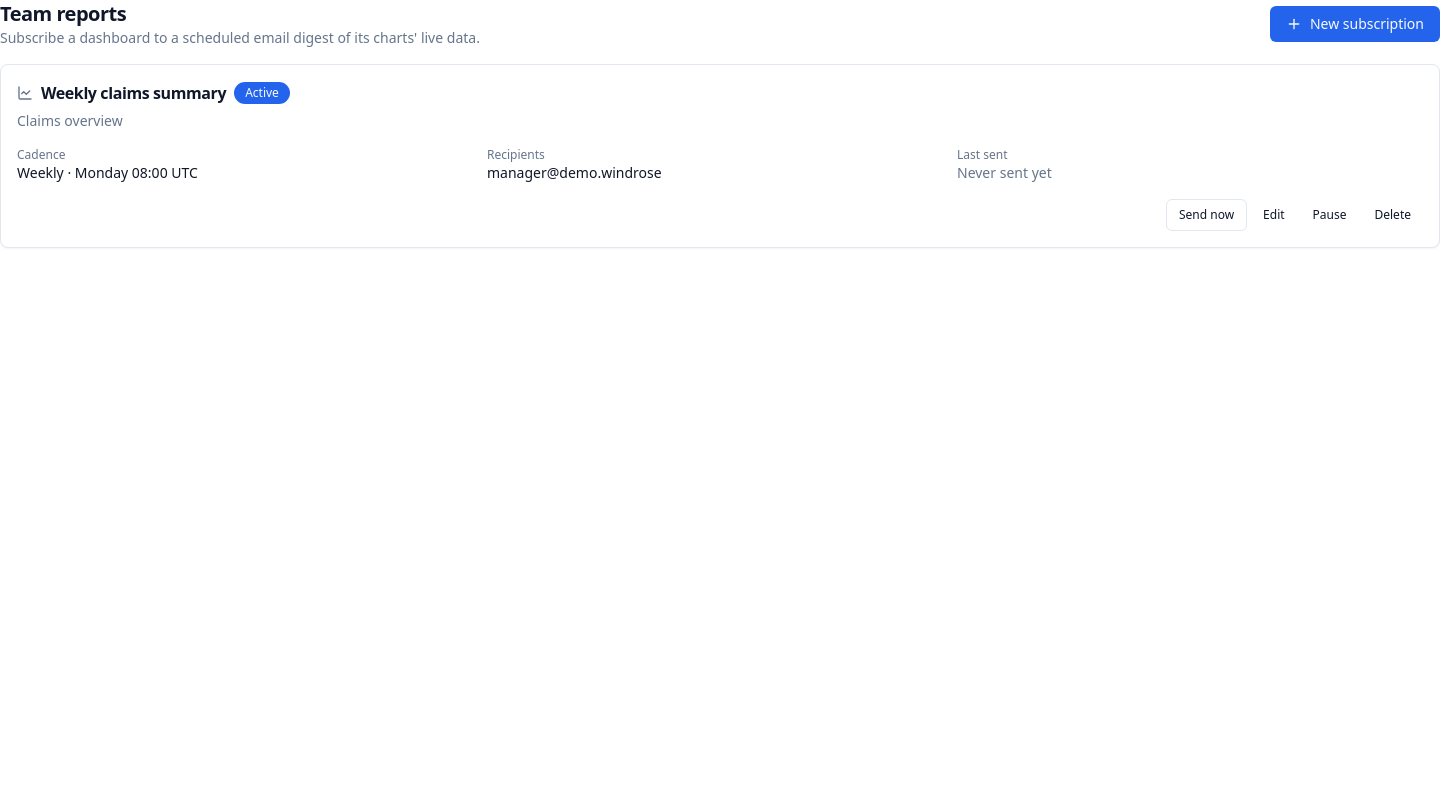
Team reports page (notification-service report subscriptions) › creates a report subscription and posts real recipients/cadence to the BFF
Expected: the heading "Weekly claims summary" is shown, 41,81 -> 226,105
Click the button "New subscription" at {"x": 1355, "y": 24}, box 1270,6 -> 1439,42
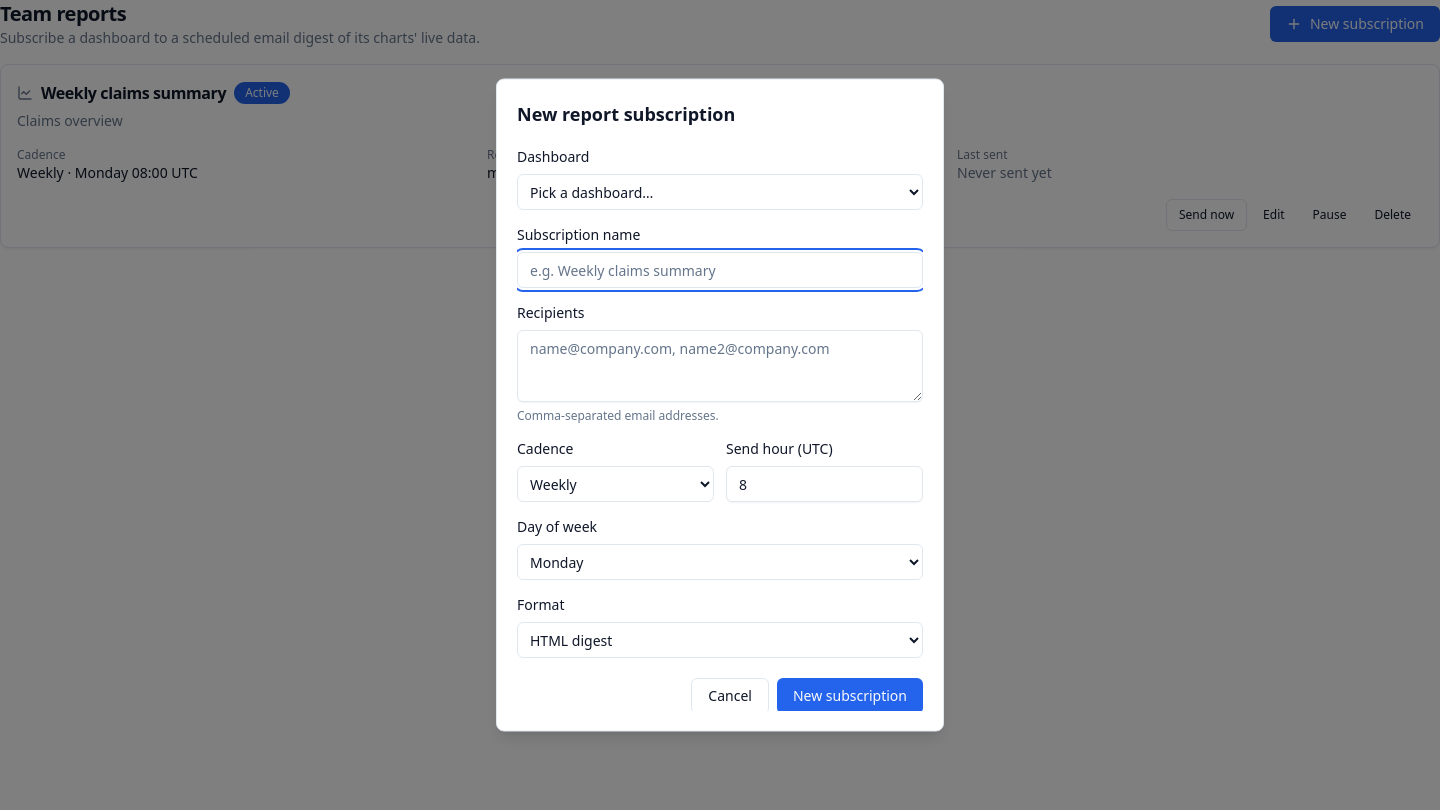
Select "Claims overview" in the dropdown labelled "Dashboard" at {"x": 720, "y": 192}, box 517,174 -> 923,210
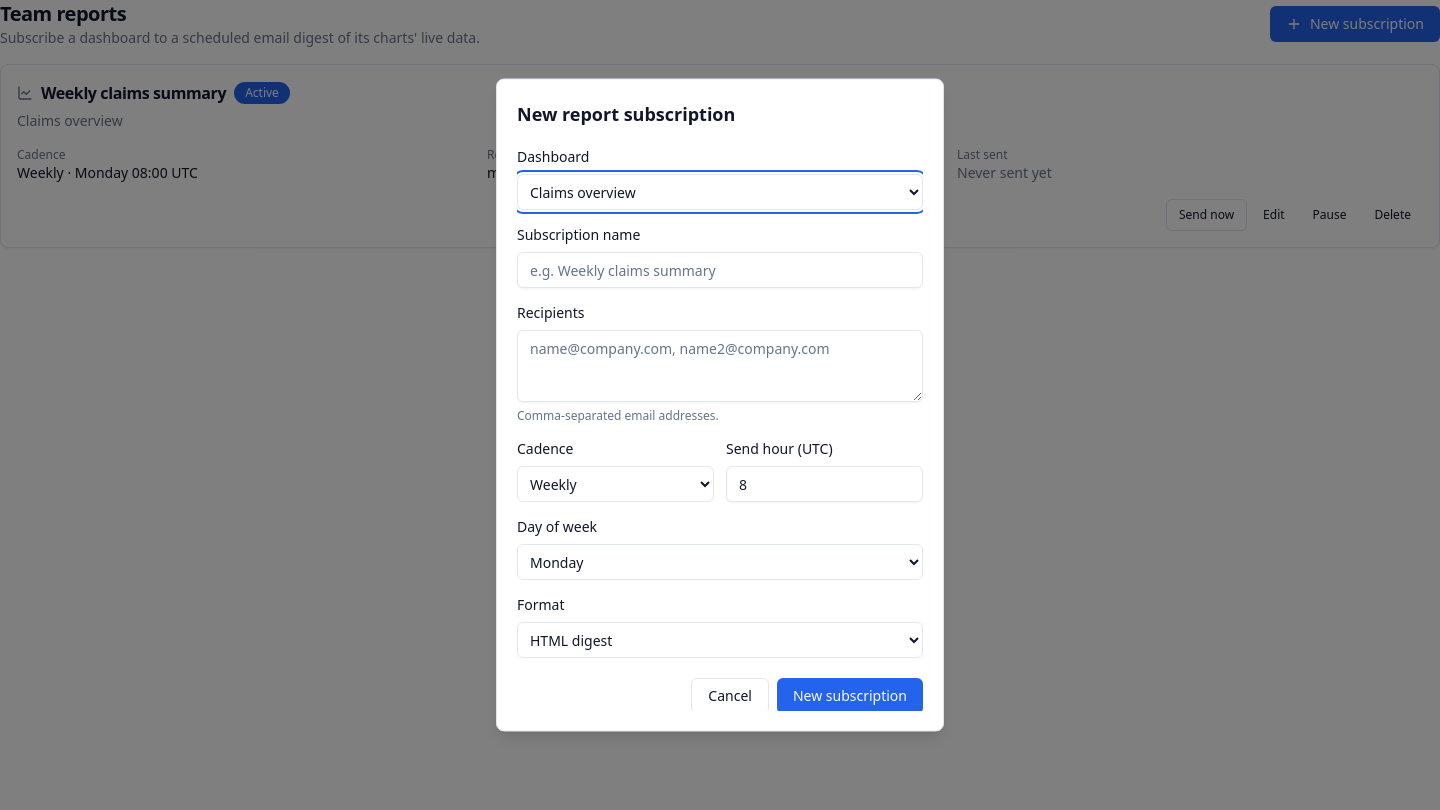
Type "Monthly ops digest" into the field labelled "Subscription name" at {"x": 720, "y": 270}, box 517,252 -> 923,288
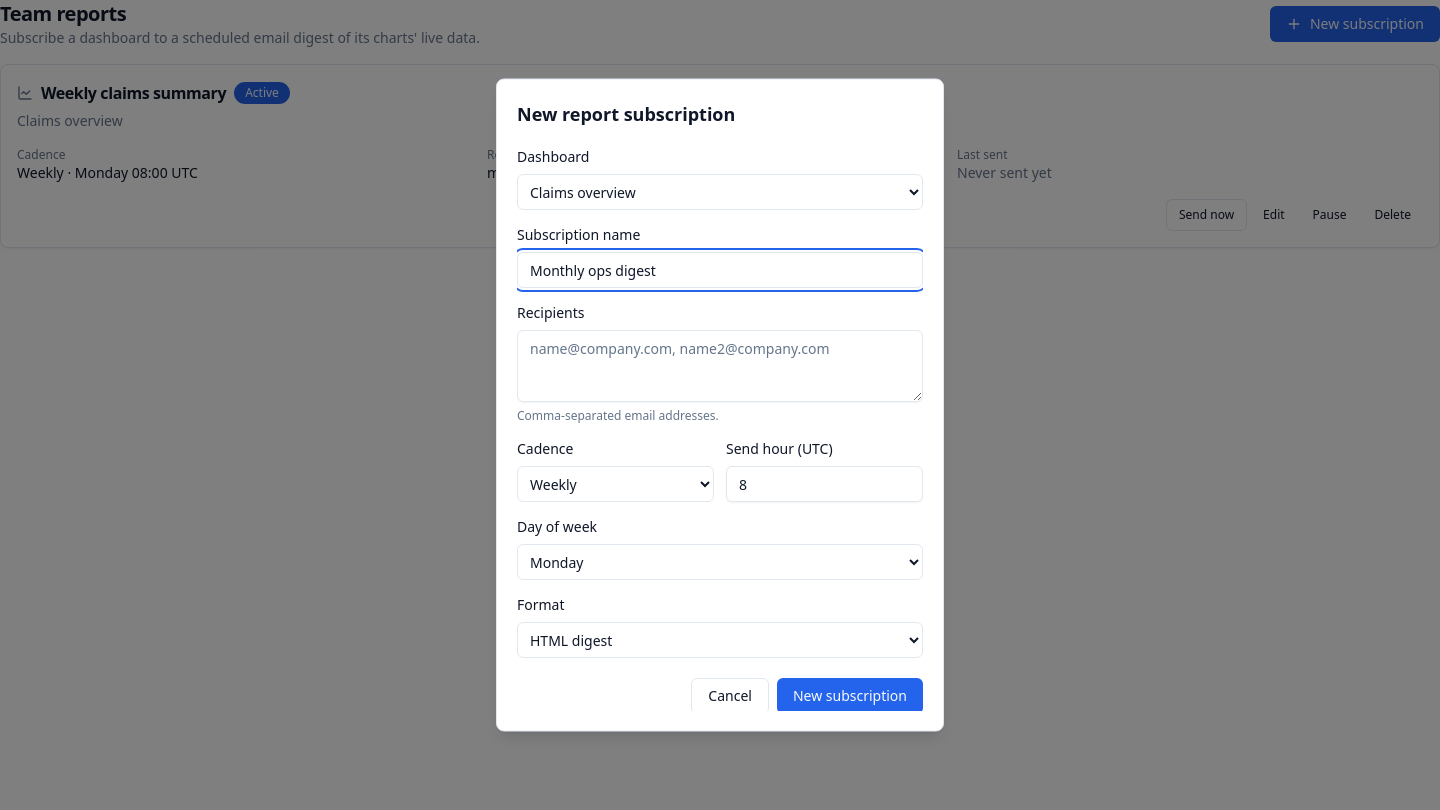
Type "a@demo.windrose, b@demo.windrose" into the text box labelled "Recipients" at {"x": 720, "y": 366}, box 517,330 -> 923,402
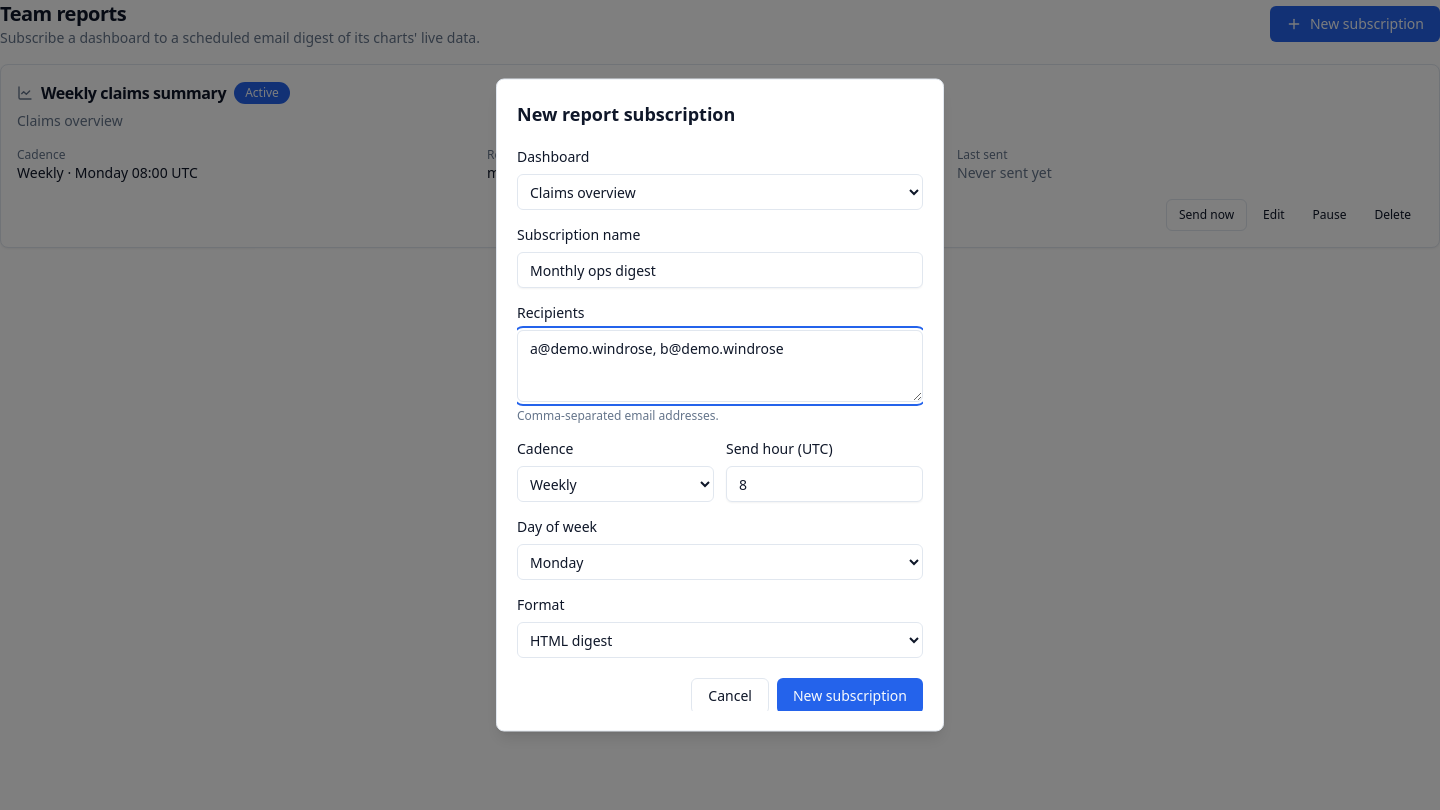
Select "Daily" in the dropdown labelled "Cadence" at {"x": 616, "y": 484}, box 517,466 -> 714,502
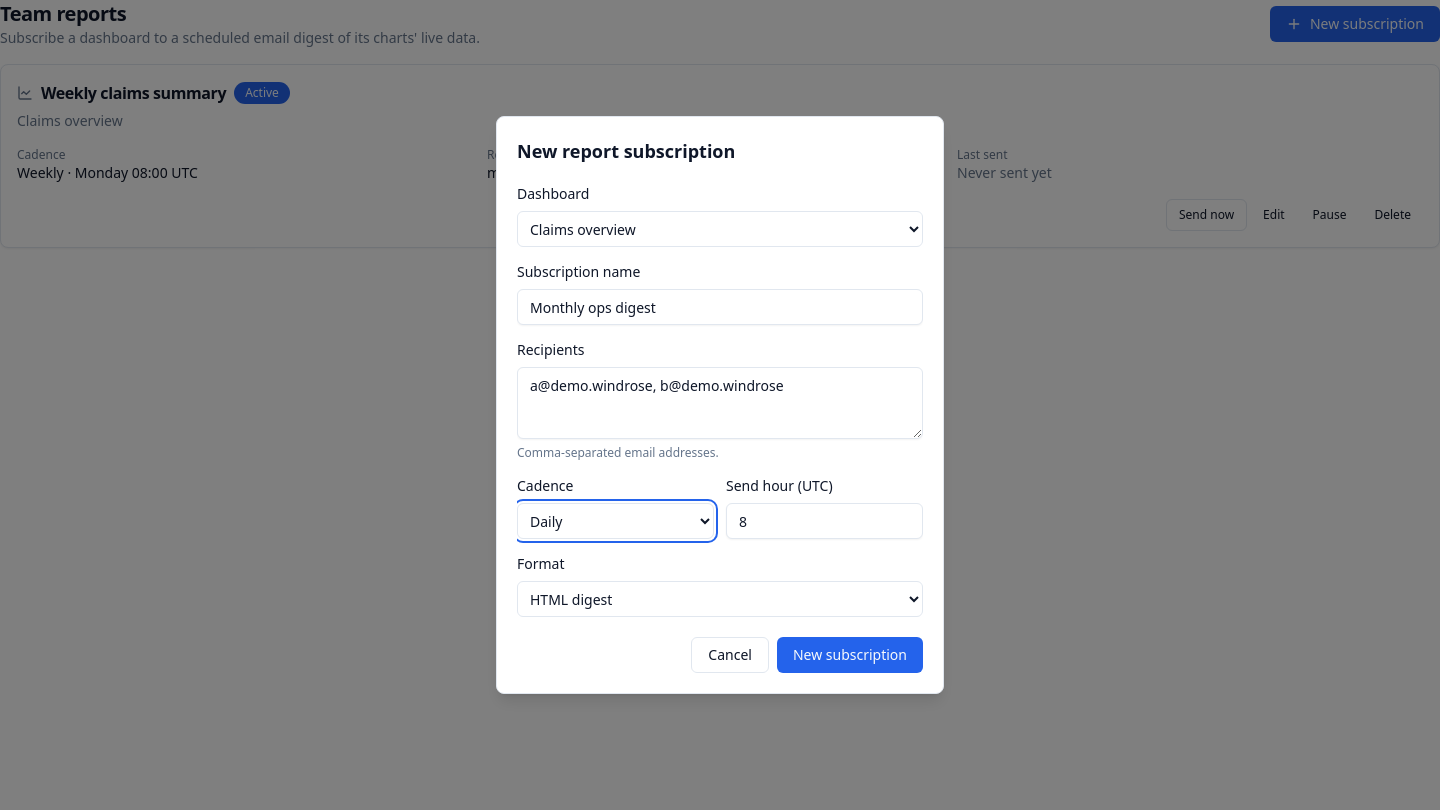
Click the button "New subscription" at {"x": 850, "y": 655}, box 777,637 -> 923,673
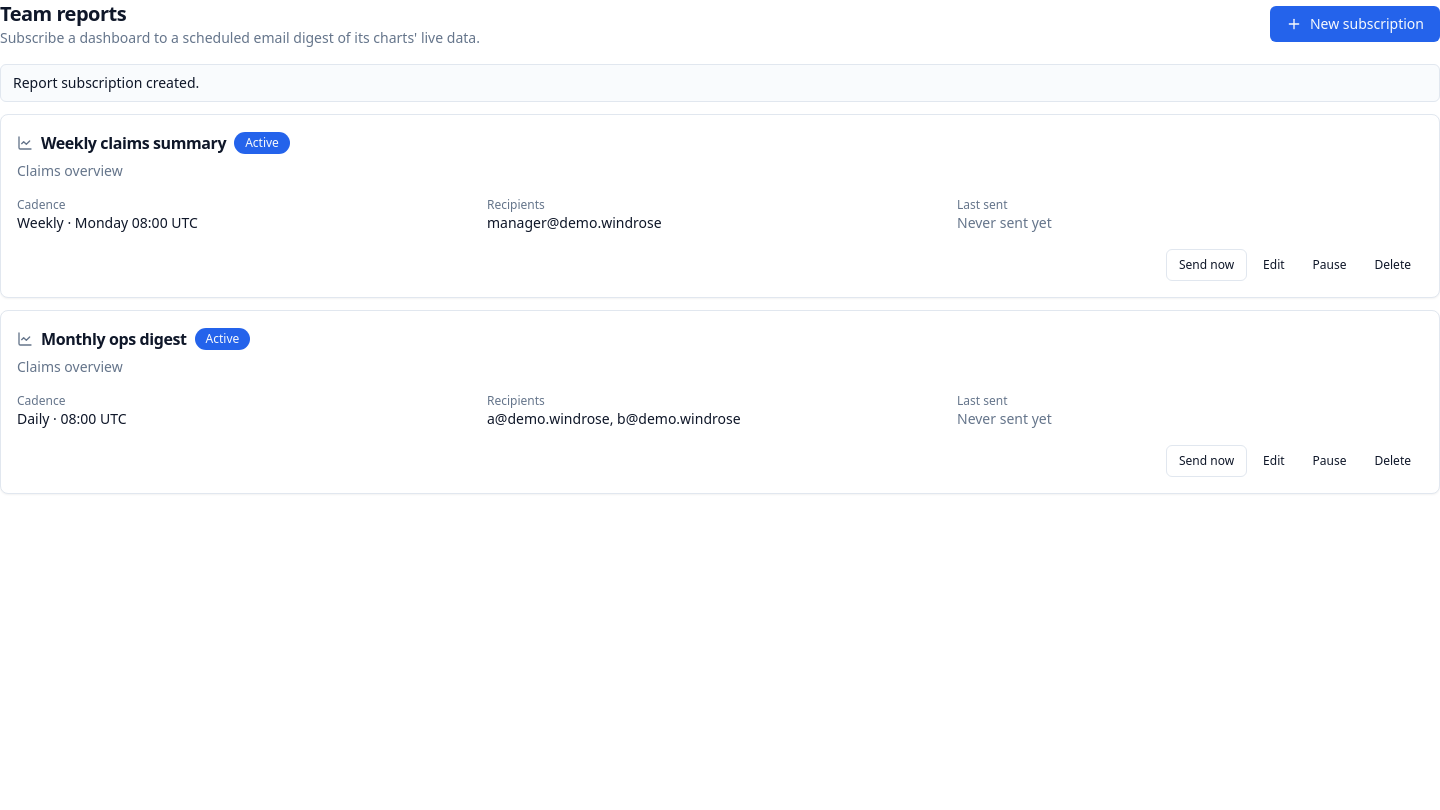
Expected: the heading "Monthly ops digest" is shown, 41,327 -> 186,351
